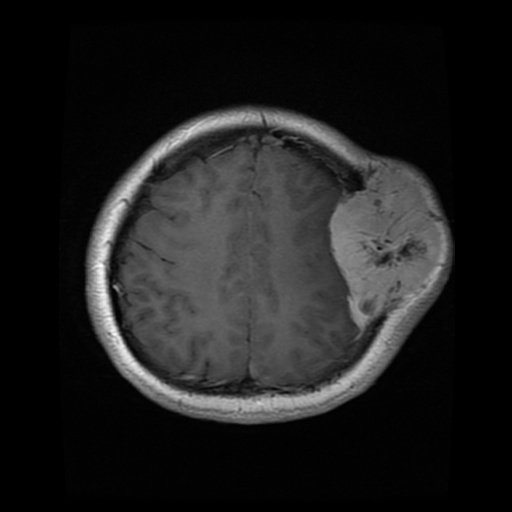meningioma: (330, 169, 438, 329)
